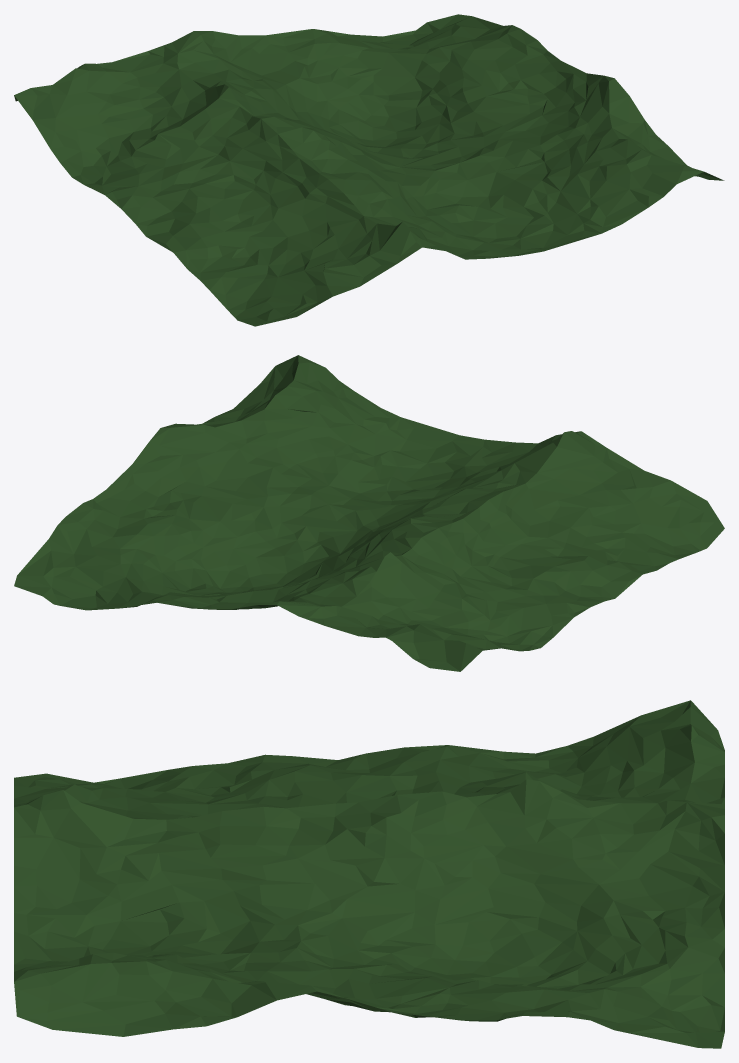
File: SM_landscape_12.fbx
3 views of the same model, one above another, from view 1: azimuth 30°, elevation 25°; view 2: azimuth 150°, elevation 25°; view 3: azimuth 270°, elevation 25° (orthographic). The views are drawn at different scales.
Parts seen in each view (by area): view 1: landscape_12; view 2: landscape_12; view 3: landscape_12.
Boxes of the visible parts, x1=… form: landscape_12: x1=14, y1=14, x2=724, y2=326; landscape_12: x1=14, y1=355, x2=724, y2=671; landscape_12: x1=14, y1=700, x2=724, y2=1048.
Size of the model in its own units: 2224 by 357 by 2224.
